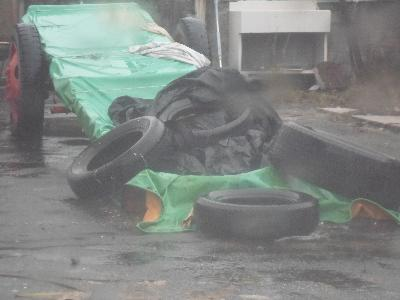plastic_bag: (21, 2, 203, 132), (122, 166, 400, 241), (110, 64, 283, 177)
tire: (65, 113, 173, 205), (193, 186, 320, 237)
